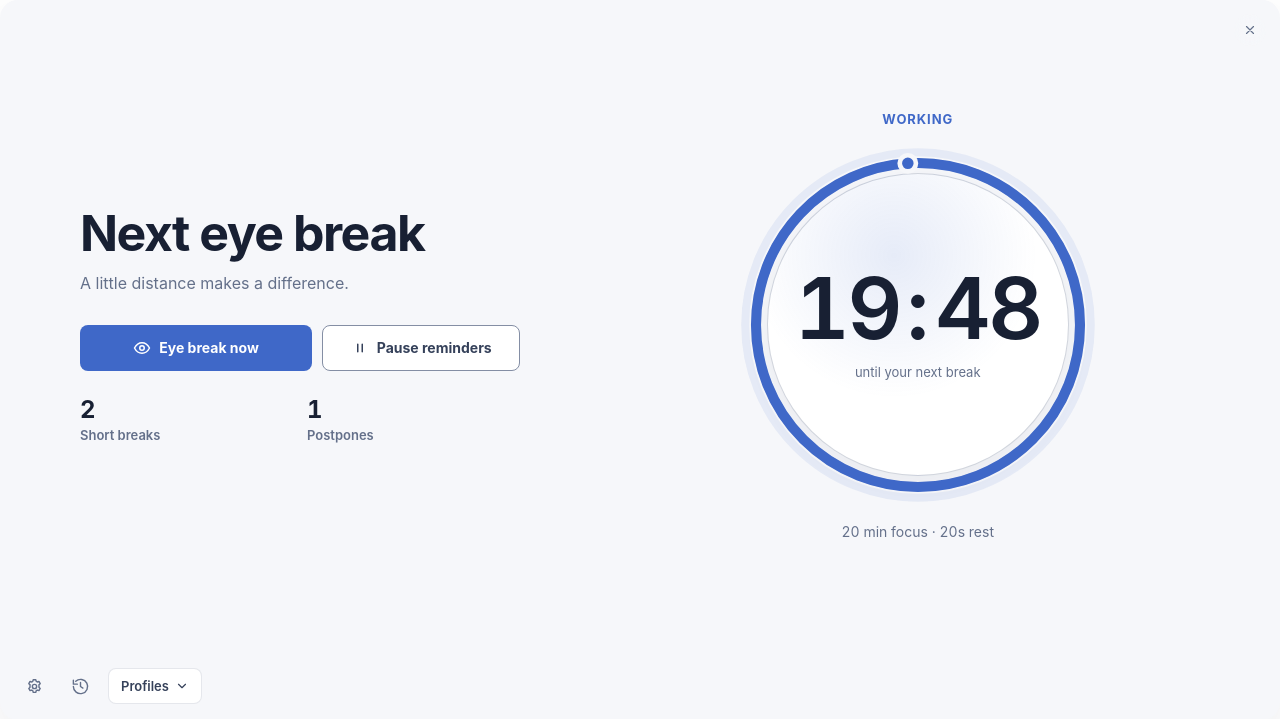
PausIO app experience › closes settings on Escape and returns focus to the gear icon
Expected: the heading "Next eye break" is shown, [80,203,424,263]
Click the button named "Settings": (34, 686) [16,668,52,704]
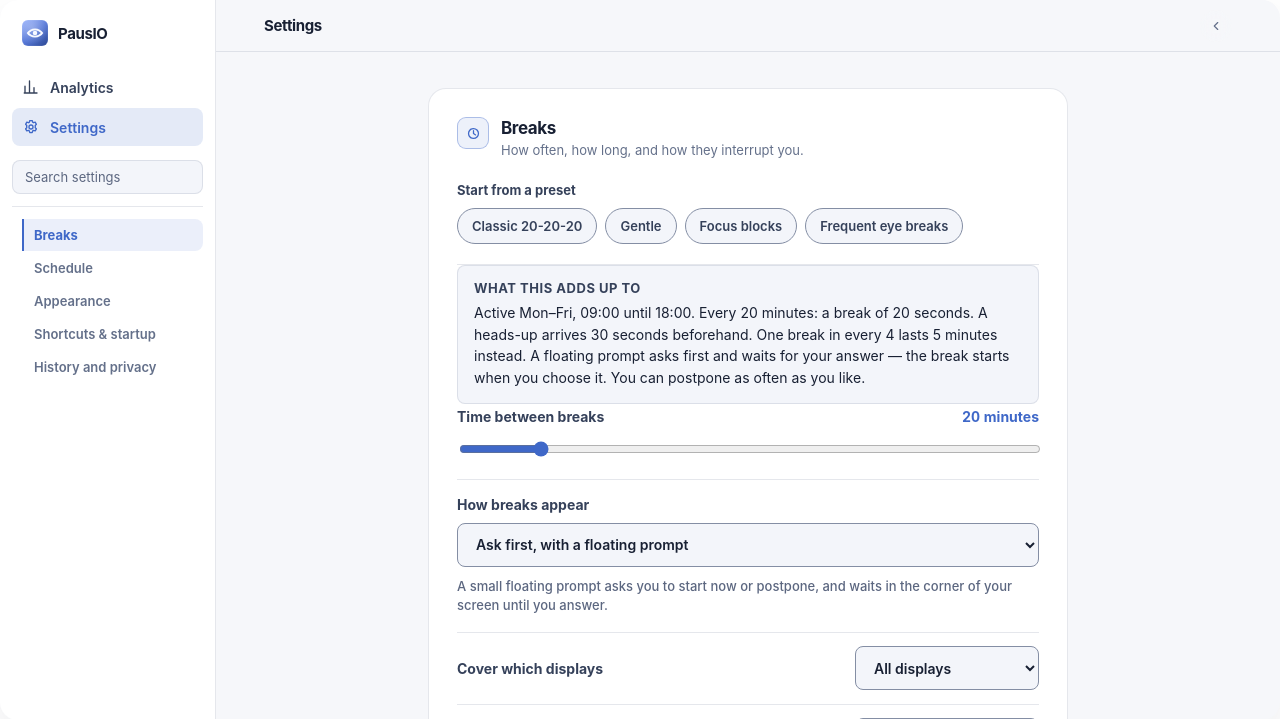
Expected: the heading "Settings" is shown, [264,16,322,35]
Press Escape
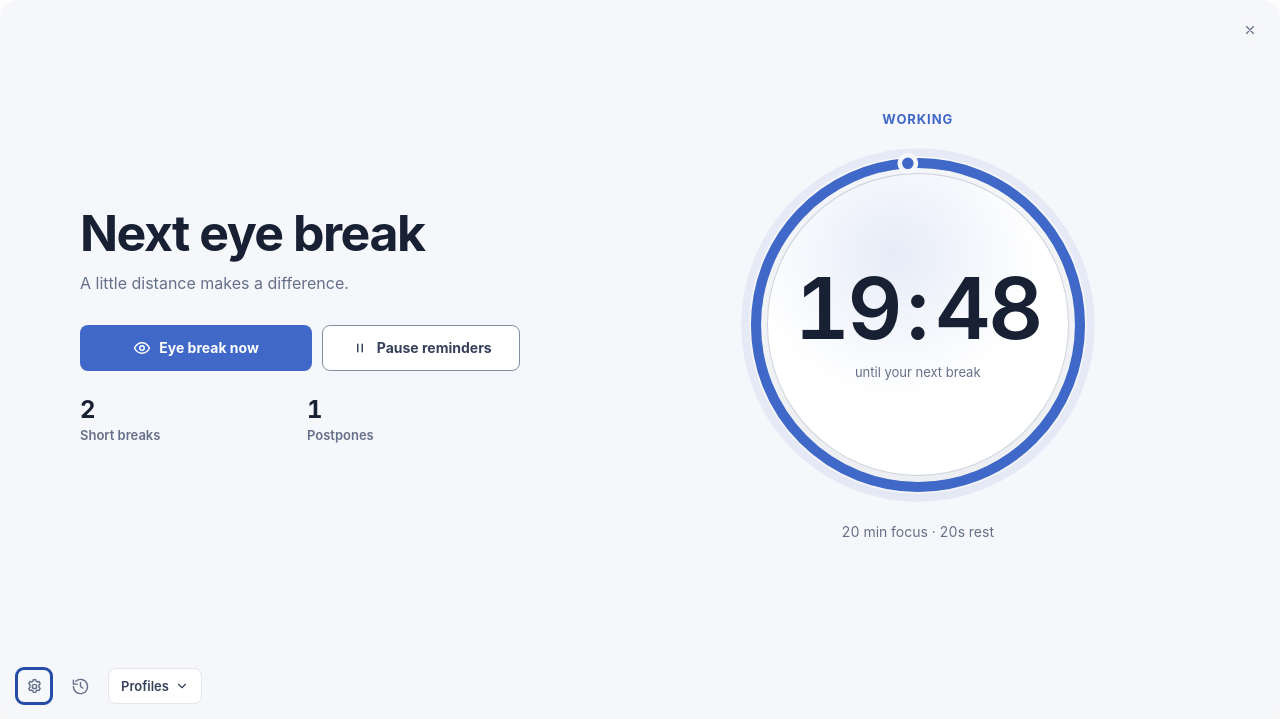
Expected: the button "Settings" is gone
